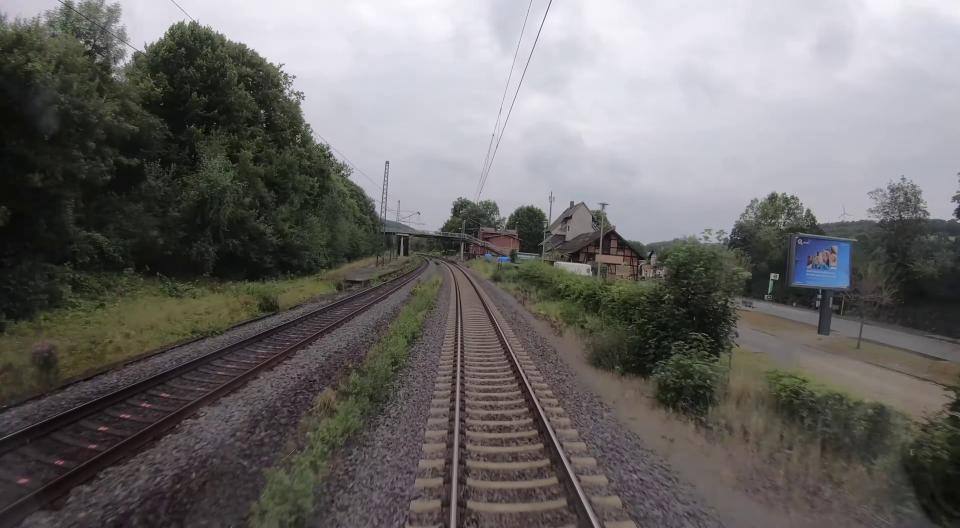Plant: (251, 274, 441, 527)
